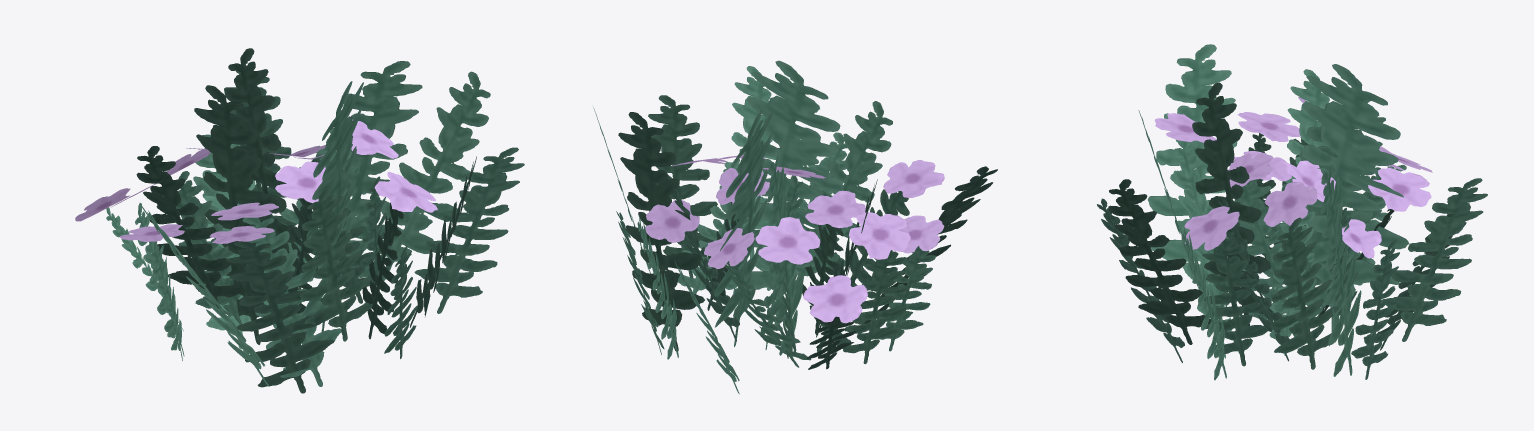
File: Gypsophila.fbx
The picture shows the model from 3 angles, left to right: view 1: azimuth 30°, elevation 25°; view 2: azimuth 150°, elevation 25°; view 3: azimuth 270°, elevation 25°; orthographic projection. The views are drawn at different scales.
Parts seen in each view (by area): view 1: Gypsophila; view 2: Gypsophila; view 3: Gypsophila.
Boxes of the visible parts, x1,y1,x2,y2 form: Gypsophila: (75,48,524,393); Gypsophila: (593,60,997,394); Gypsophila: (1097,44,1487,380).
Size of the model in its own units: 31.33 by 25.45 by 28.28.
